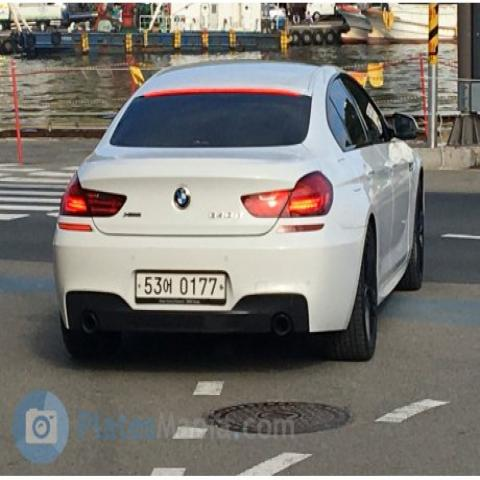LP: (124, 262, 236, 313)
